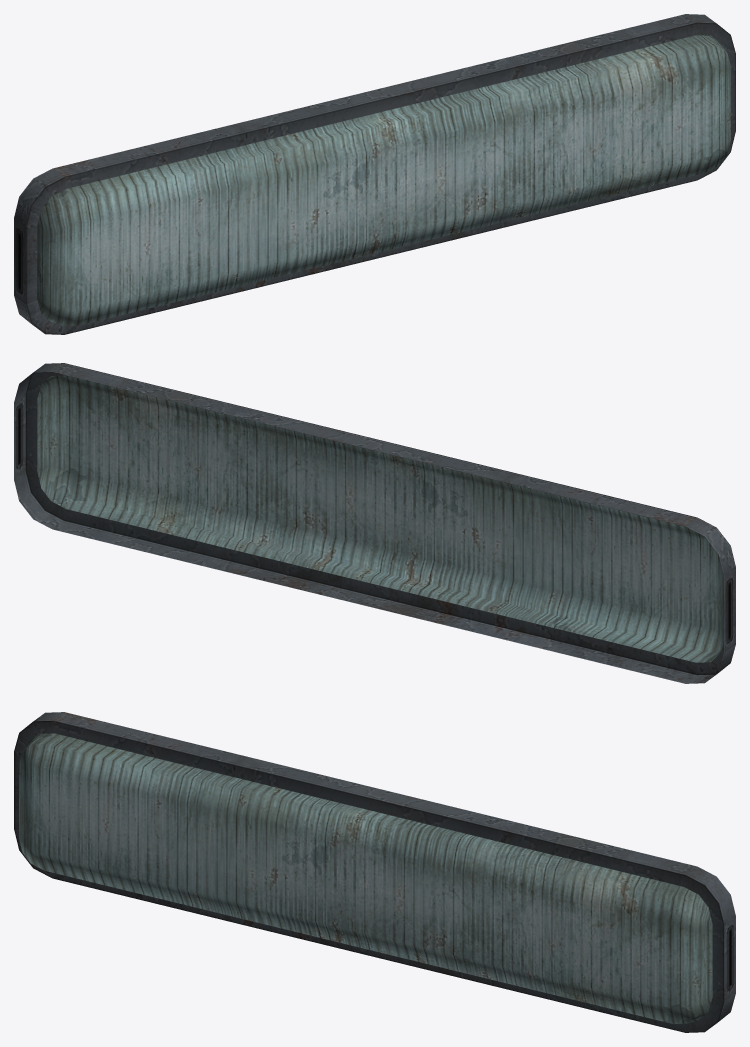
Rendered from Light1_4.fbx.
3 views of the same model, one above another, from view 1: azimuth 30°, elevation 25°; view 2: azimuth 150°, elevation 25°; view 3: azimuth 330°, elevation 25° (orthographic).
Parts seen in each view (by area): view 1: pCylinder5; view 2: pCylinder5; view 3: pCylinder5.
Boxes of the visible parts, x1,y1,x2,y2 form: pCylinder5: (14,14,735,334); pCylinder5: (14,363,735,683); pCylinder5: (14,712,735,1032).
Size of the model in its own units: 0.9256 by 0.1964 by 0.0601.
1 material, 1 textured.
